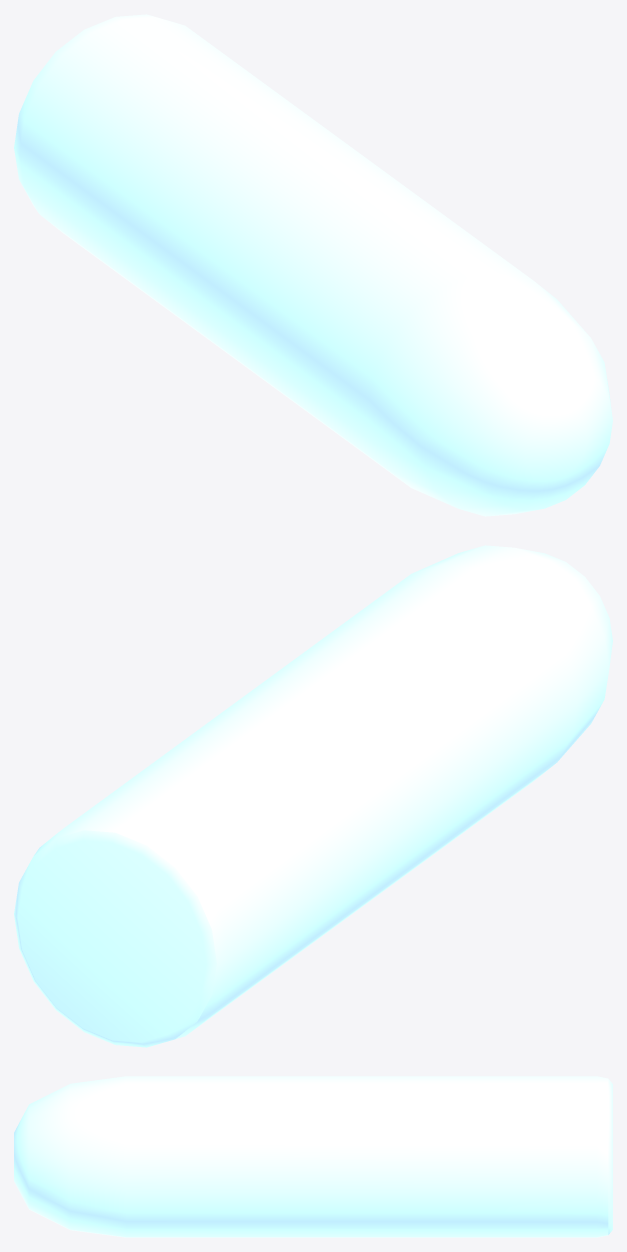
Rendered from laser.fbx.
3 views of the same model, one above another, from view 1: azimuth 30°, elevation 25°; view 2: azimuth 150°, elevation 25°; view 3: azimuth 270°, elevation 25° (orthographic). The views are drawn at different scales.
Parts seen in each view (by area): view 1: pCylinder1; view 2: pCylinder1; view 3: pCylinder1.
Boxes of the visible parts, box(x1,y1,x2,y2) form: pCylinder1: box(14, 14, 612, 516); pCylinder1: box(14, 545, 612, 1047); pCylinder1: box(14, 1076, 612, 1237).
Bounding box in the file's own units: 0.1351 × 0.1351 × 0.4973.
1 material, 1 textured.
